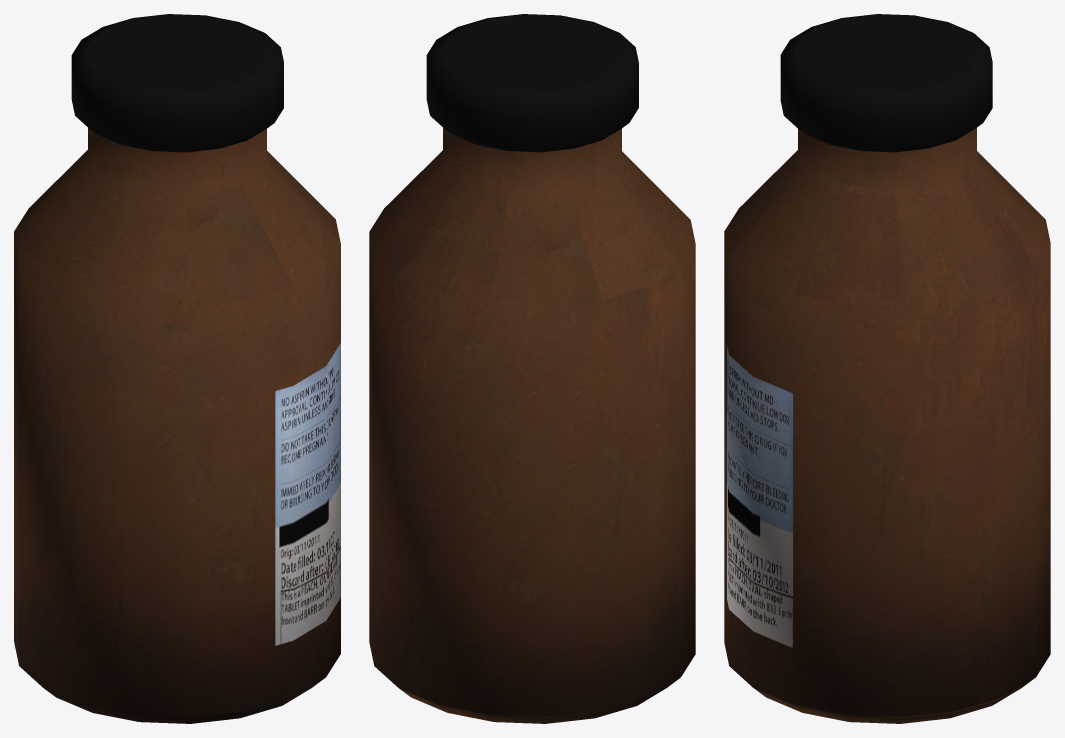
Rendered from Medicine.FBX.
3 views of the same model, side by side, from view 1: azimuth 30°, elevation 25°; view 2: azimuth 150°, elevation 25°; view 3: azimuth 270°, elevation 25° (orthographic).
Parts seen in each view (by area): view 1: Medicine; view 2: Medicine; view 3: Medicine.
Boxes of the visible parts, x1,y1,x2,y2 form: Medicine: (14, 14, 340, 723); Medicine: (369, 14, 695, 723); Medicine: (724, 14, 1050, 723).
Size of the model in its own units: 106 by 218 by 106.
Materials: 1 (1 with a texture image).
